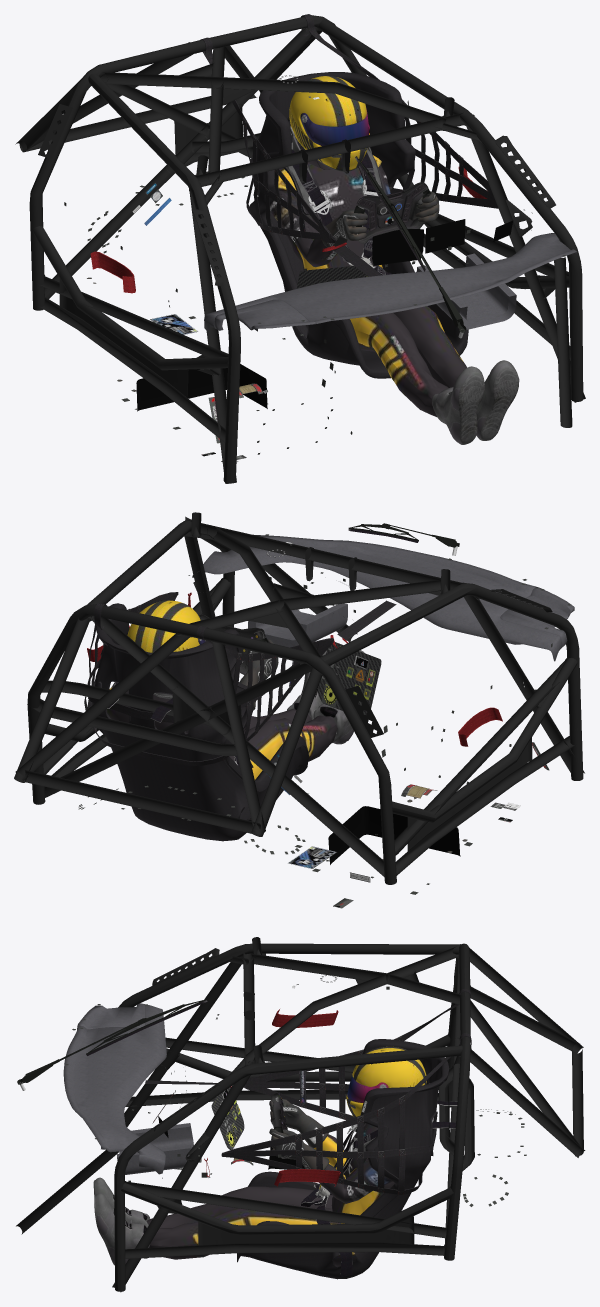
Rendered from gt_ford_int.glb.
The picture shows the model from 3 angles, top to bottom: view 1: azimuth 30°, elevation 25°; view 2: azimuth 150°, elevation 25°; view 3: azimuth 270°, elevation 25°; orthographic projection. The views are drawn at different scales.
Parts seen in each view (by area): view 1: Object_125, Object_104, Object_155, Object_101, Object_131, Object_215, Object_119, Object_191, Object_116, Object_221, Object_146, Object_86 (+4 smaller); view 2: Object_125, Object_101, Object_104, Object_131, Object_221, Object_155, Object_215, Object_191, STEER_0, Object_119, Object_86, Object_116 (+1 smaller); view 3: Object_125, Object_104, Object_131, Object_101, Object_155, Object_191, Object_119, Object_146, Object_86, Object_221, Object_161, Object_158 (+2 smaller).
Boxes of the visible parts, x1,y1,x2,y2 form: Object_125: (15,15,585,483); Object_104: (204,233,576,331); Object_155: (270,146,467,416); Object_101: (249,72,468,378); Object_131: (90,14,498,293); Object_215: (136,219,513,411); Object_119: (432,360,519,444); Object_191: (287,75,369,171); Object_116: (354,182,430,243); Object_221: (64,75,566,461); Object_146: (292,149,392,275); Object_86: (355,156,466,338); Object_125: (14,512,584,884); Object_101: (87,603,308,841); Object_104: (203,534,574,661); Object_131: (84,592,502,765); Object_221: (78,534,571,908); Object_155: (107,687,337,812); Object_215: (328,806,460,864); Object_191: (127,600,205,652); STEER_0: (318,642,381,715); Object_119: (287,650,364,744); Object_86: (348,523,459,555); Object_116: (198,614,267,675); Object_125: (16,937,585,1292); Object_104: (63,1003,193,1174); Object_131: (145,989,471,1194); Object_101: (237,1039,449,1279); Object_155: (146,1123,394,1266); Object_191: (346,1046,428,1117); Object_119: (93,1177,150,1265); Object_146: (300,1100,457,1276); Object_86: (17,999,207,1090); Object_221: (65,975,526,1206); Object_161: (269,1099,328,1147); Object_158: (269,1128,329,1169).
Size of the model in its own units: 1.5 by 1.11 by 2.22.
14 materials, 13 textured.
